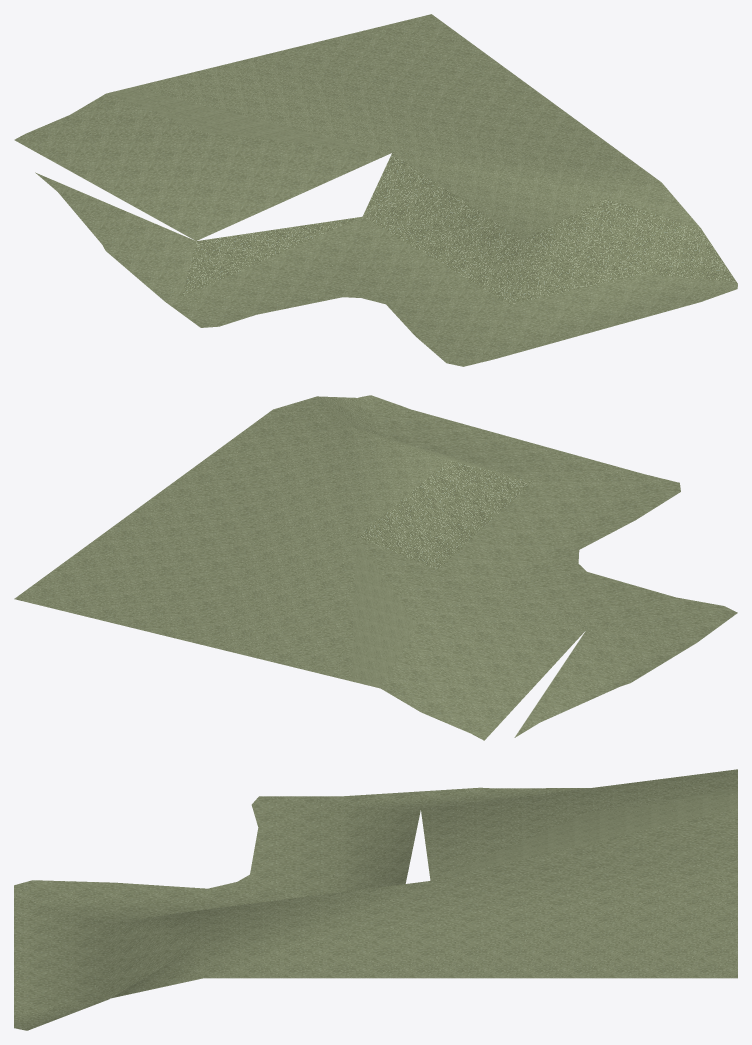
The model's file is kd_stage_135b75_4_140_bounded_portal_piece_0.glb.
3 renders of one model, top to bottom at view 1: azimuth 30°, elevation 25°; view 2: azimuth 150°, elevation 25°; view 3: azimuth 270°, elevation 25°, orthographic. The views are drawn at different scales.
Parts seen in each view (by area): view 1: kd_stage_135b75_4_140_bounded_portal_piece_0; view 2: kd_stage_135b75_4_140_bounded_portal_piece_0; view 3: kd_stage_135b75_4_140_bounded_portal_piece_0.
Boxes of the visible parts, x1=… form: kd_stage_135b75_4_140_bounded_portal_piece_0: x1=14, y1=14, x2=737, y2=366; kd_stage_135b75_4_140_bounded_portal_piece_0: x1=14, y1=395, x2=737, y2=740; kd_stage_135b75_4_140_bounded_portal_piece_0: x1=14, y1=769, x2=737, y2=1030.
Size of the model in its own units: 3.79 by 0.4681 by 4.68.
1 material, 1 textured.
